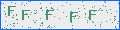F: (70, 12, 78, 23), (8, 6, 16, 17), (89, 10, 97, 20), (46, 10, 54, 20), (22, 10, 30, 20)
